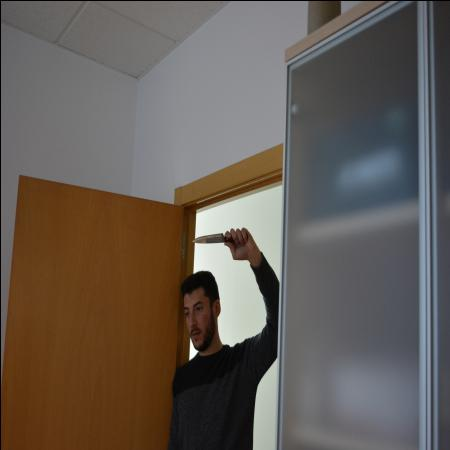long weapon: (189, 225, 249, 245)
